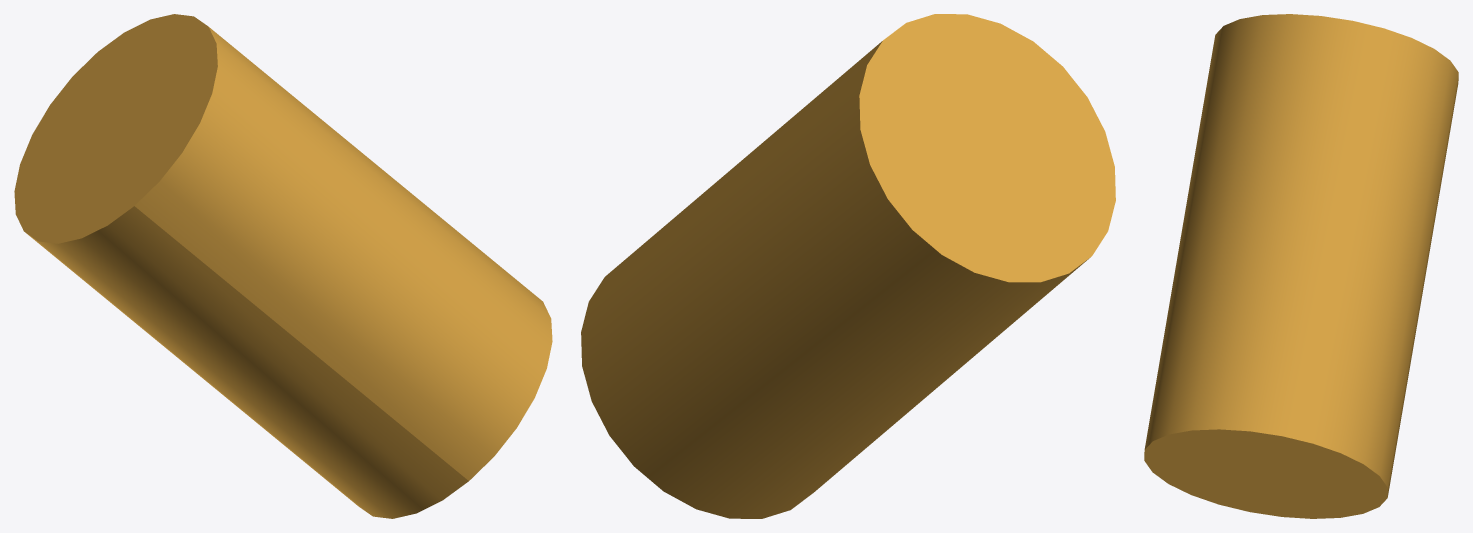
Rendered from bond.glb.
3 views of the same model, side by side, from view 1: azimuth 30°, elevation 25°; view 2: azimuth 150°, elevation 25°; view 3: azimuth 270°, elevation 25° (orthographic). The views are drawn at different scales.
Size of the model in its own units: 3.13 by 3.16 by 2.02.
